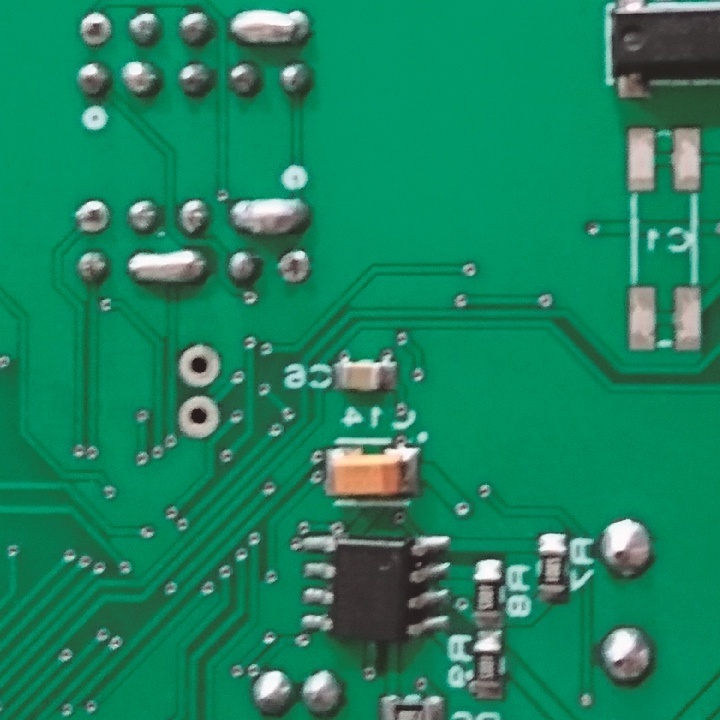F: (175, 340, 224, 387), (175, 395, 220, 438), (76, 10, 114, 47), (75, 198, 112, 235), (273, 250, 313, 284)
P: (227, 6, 312, 49), (226, 194, 314, 235), (124, 247, 210, 286)
